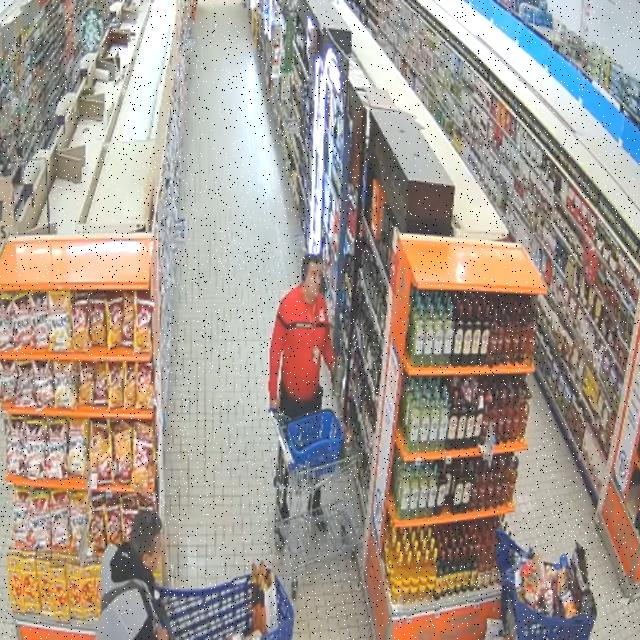article: (332, 360, 345, 396)
hands: (156, 629, 169, 639), (270, 400, 279, 410)
person: (269, 255, 335, 419), (97, 511, 171, 639)
